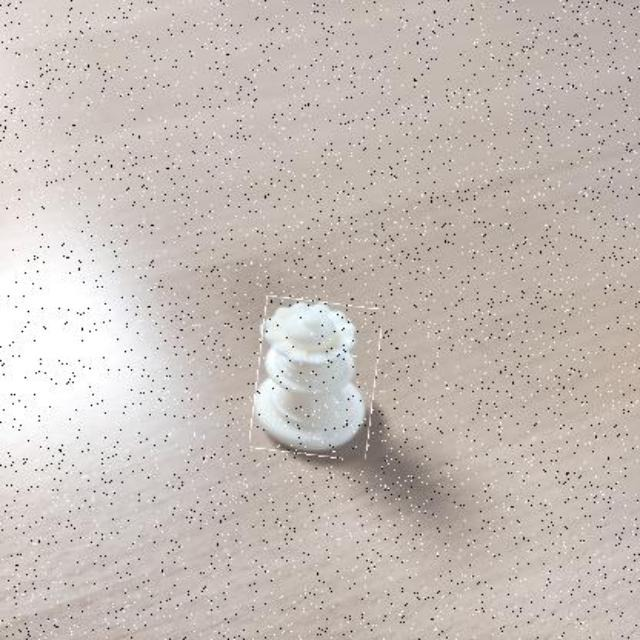white-queen: (253, 299, 379, 457)
